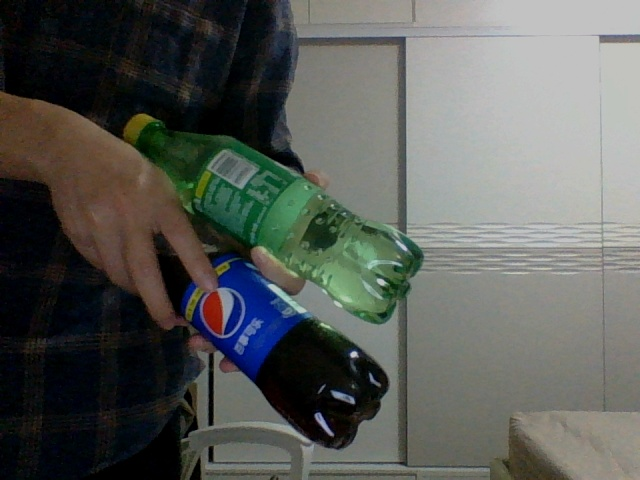Cola: (152, 230, 389, 450)
Sprite: (126, 117, 424, 325)
